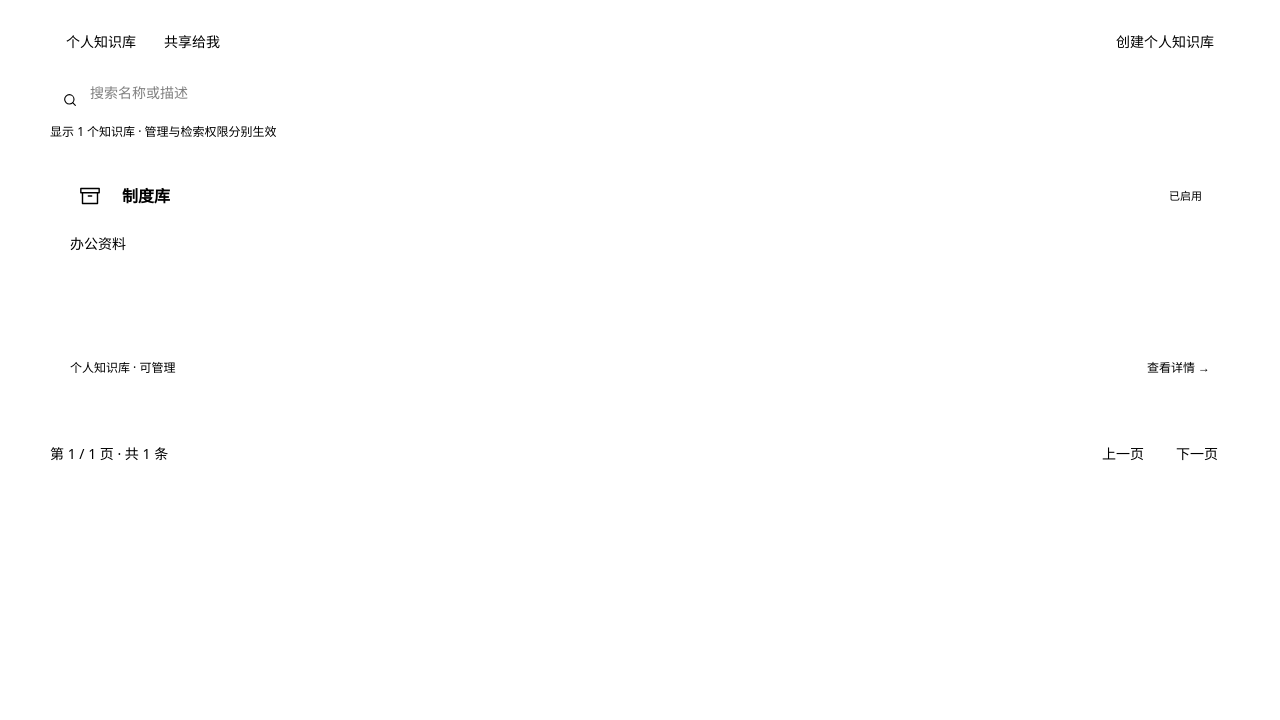
ordinary users only see personal and shared knowledge views
This screenshot has width=1280, height=720.
Expected: the button "制度库 已启用 办公资料 个人知识库 · 可管理 查看详情 →" is shown, x1=50 y1=156 x2=1230 y2=396
Expected: the button "个人知识库" is shown, x1=54 y1=24 x2=148 y2=60
Step 1. Click the button "共享给我" → (192, 42), box x1=152 y1=24 x2=232 y2=60
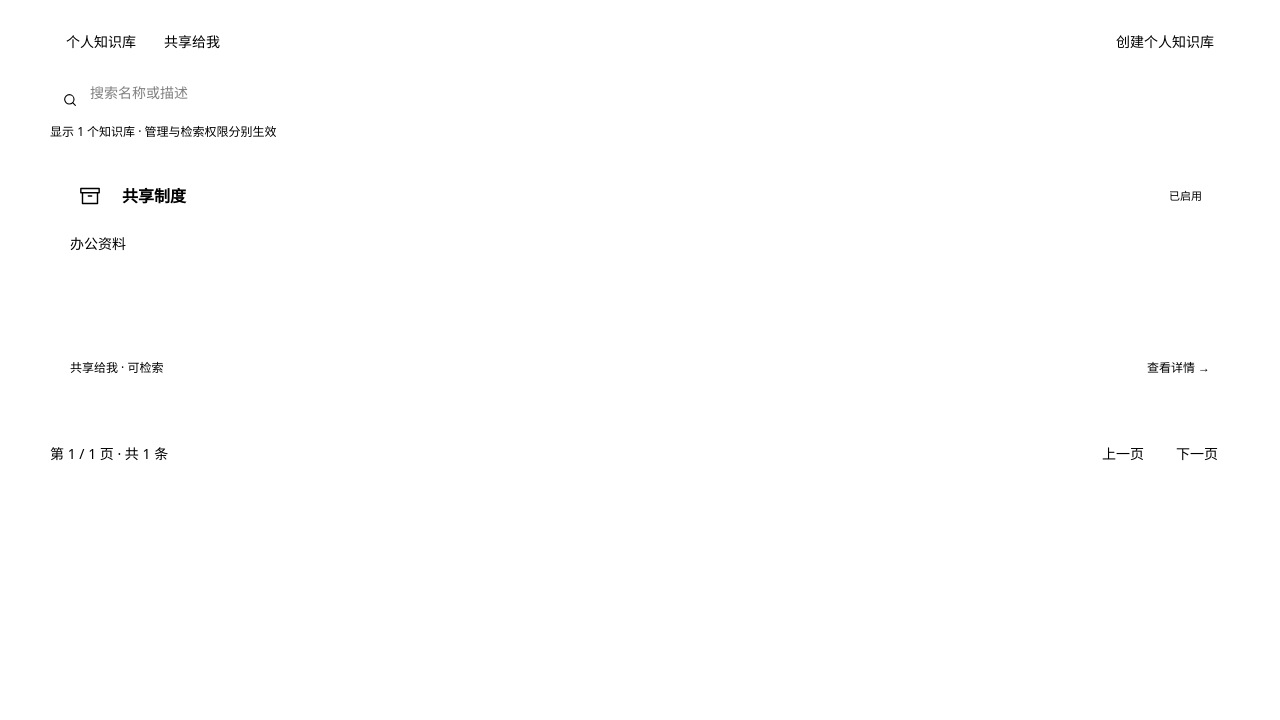
Expected: the button "共享制度 已启用 办公资料 共享给我 · 可检索 查看详情 →" is shown
Step 2. Click the button "共享制度 已启用 办公资料 共享给我 · 可检索 查看详情 →" → (640, 276), box x1=50 y1=156 x2=1230 y2=396
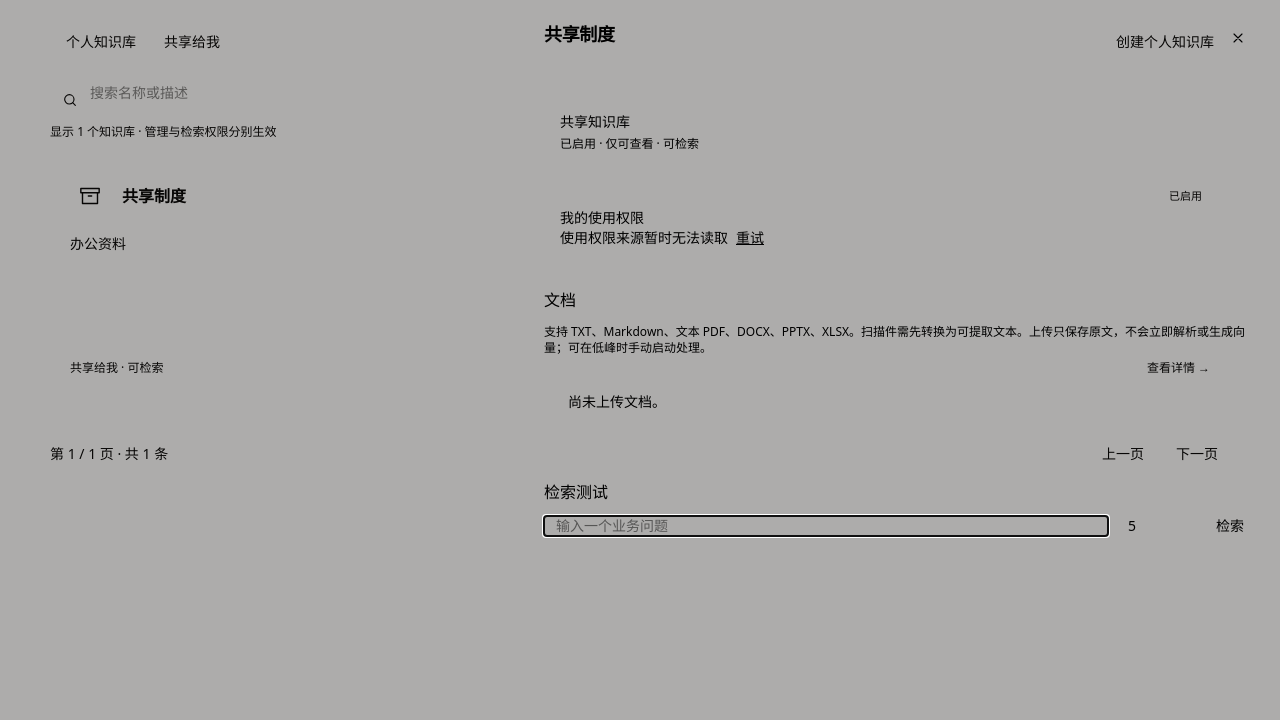
Expected: the text "共享知识库" is shown, x1=560 y1=112 x2=630 y2=131
